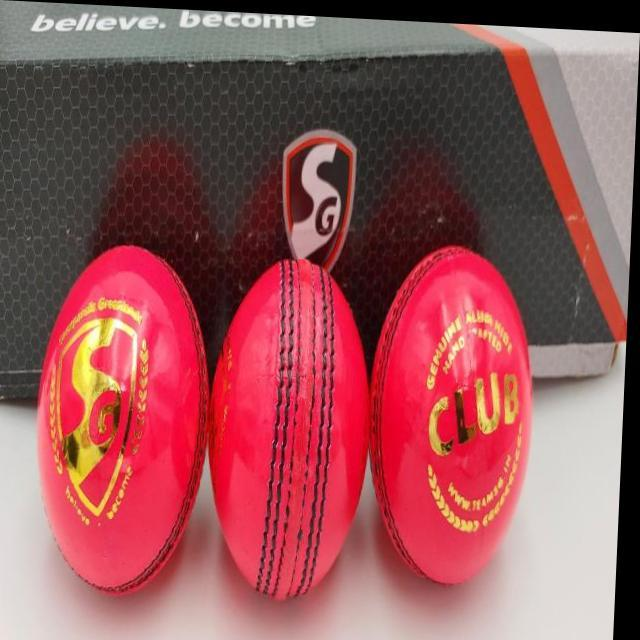cricket ball: (40, 244, 212, 594), (373, 240, 537, 582), (212, 256, 374, 594)
